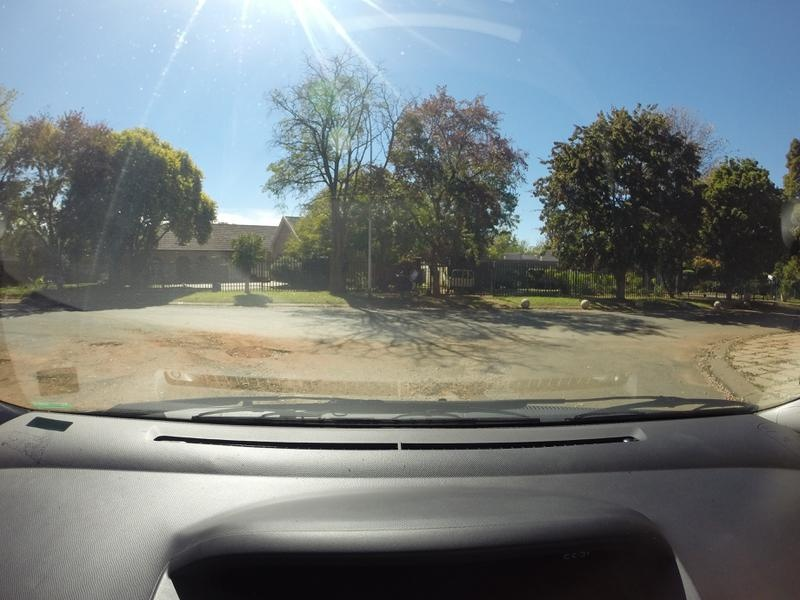pothole: (211, 341, 288, 373), (85, 336, 123, 350)
